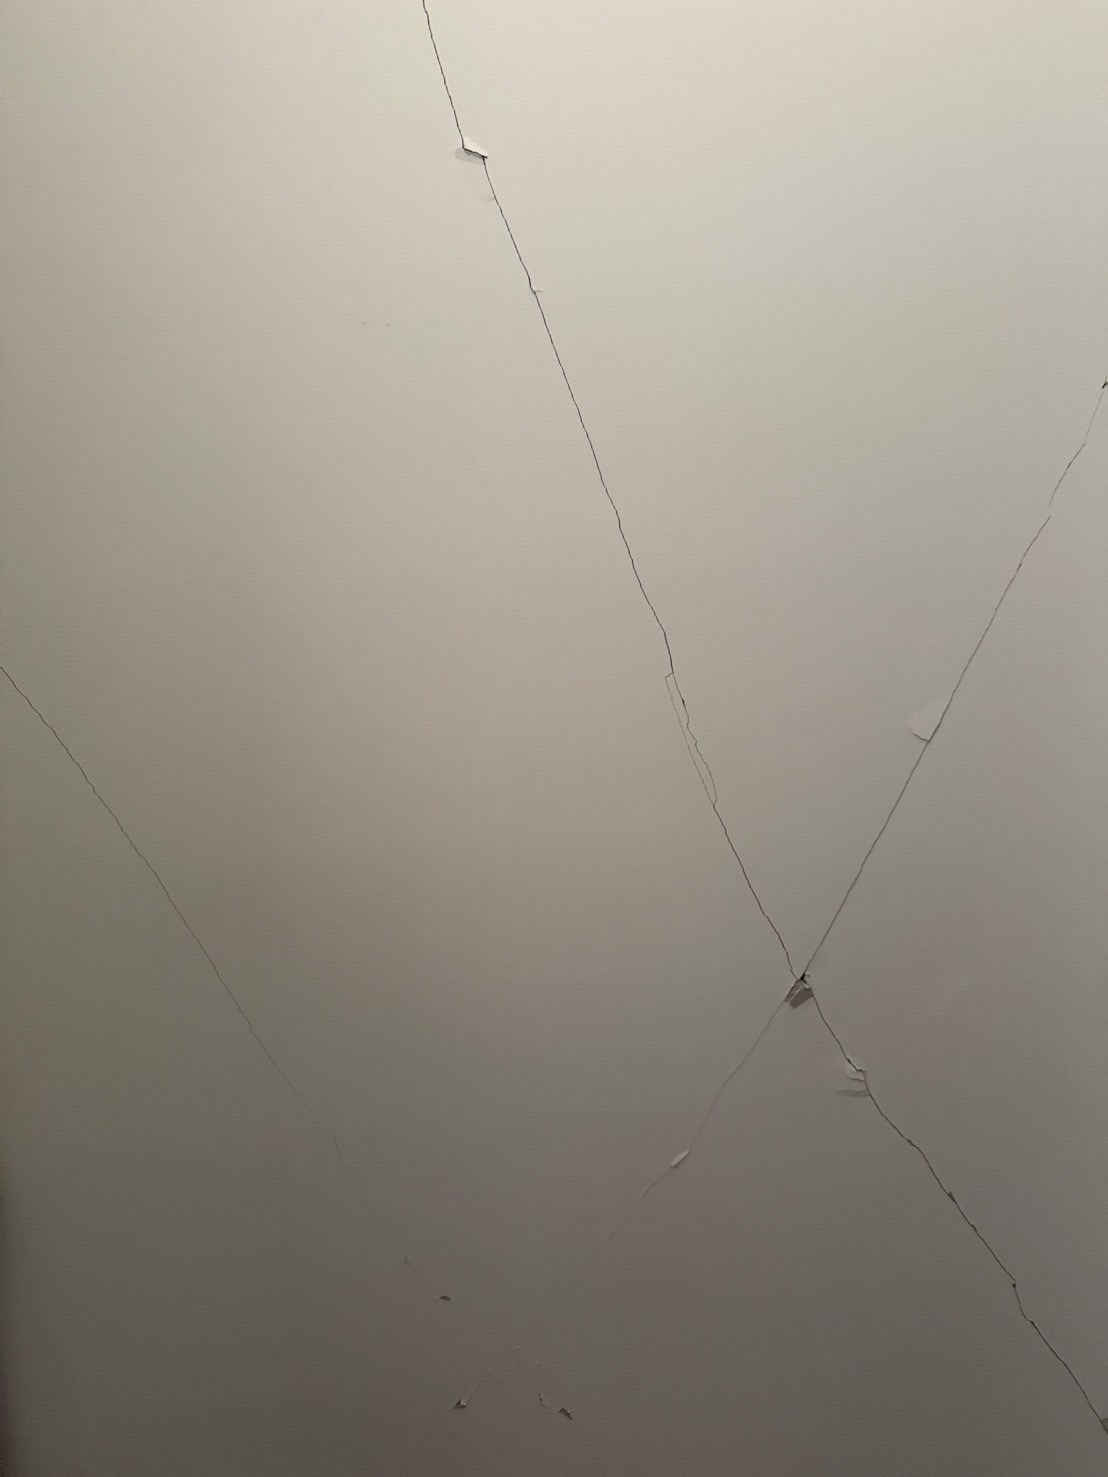Medium: (407, 62, 1027, 1055)
